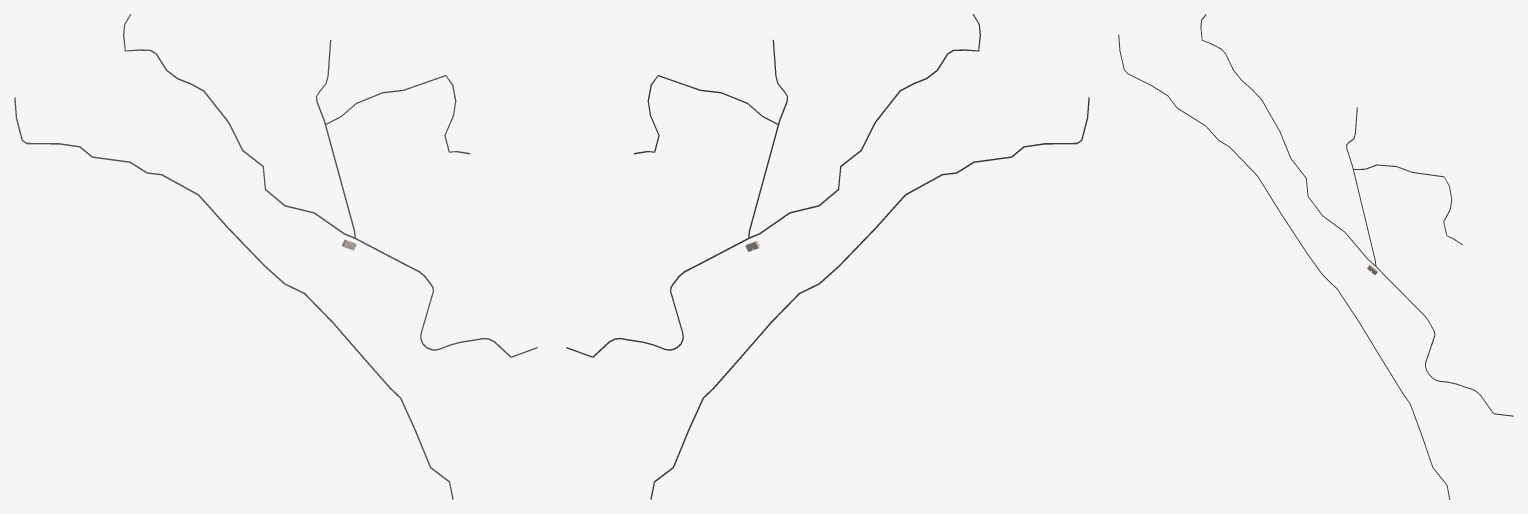
The model's file is historic-palestine-11_26_3525_3204.glb.
3 views of the same model, side by side, from view 1: azimuth 30°, elevation 25°; view 2: azimuth 150°, elevation 25°; view 3: azimuth 330°, elevation 25° (orthographic). The views are drawn at different scales.
Visible parts, largest first — view 1: Road .003, Road; view 2: Road .003, Road; view 3: Road .003, Road.
Boxes of the visible parts, x1=… form: Road .003: x1=14, y1=97, x2=453, y2=499; Road: x1=123, y1=14, x2=537, y2=357; Road .003: x1=650, y1=97, x2=1089, y2=499; Road: x1=566, y1=14, x2=980, y2=357; Road .003: x1=1118, y1=34, x2=1450, y2=499; Road: x1=1200, y1=14, x2=1513, y2=416.
Bounding box in the file's own units: 1236 × 1274 × 8.7.
